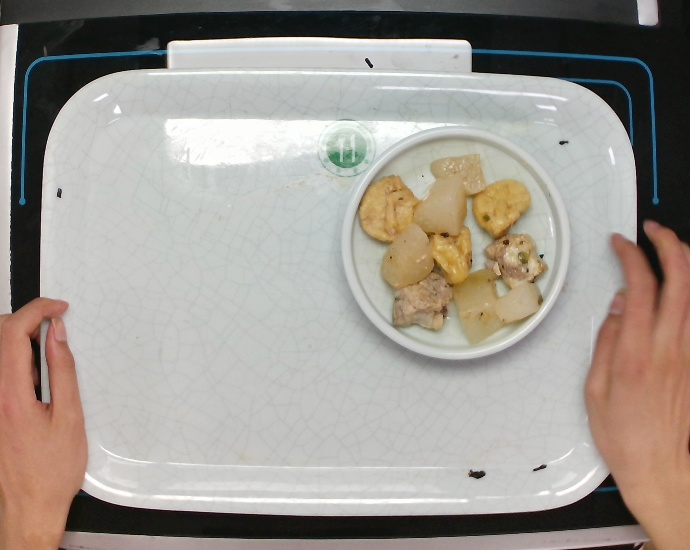JYsf-Xiao_Yuan_Pan: (338, 124, 572, 363)
